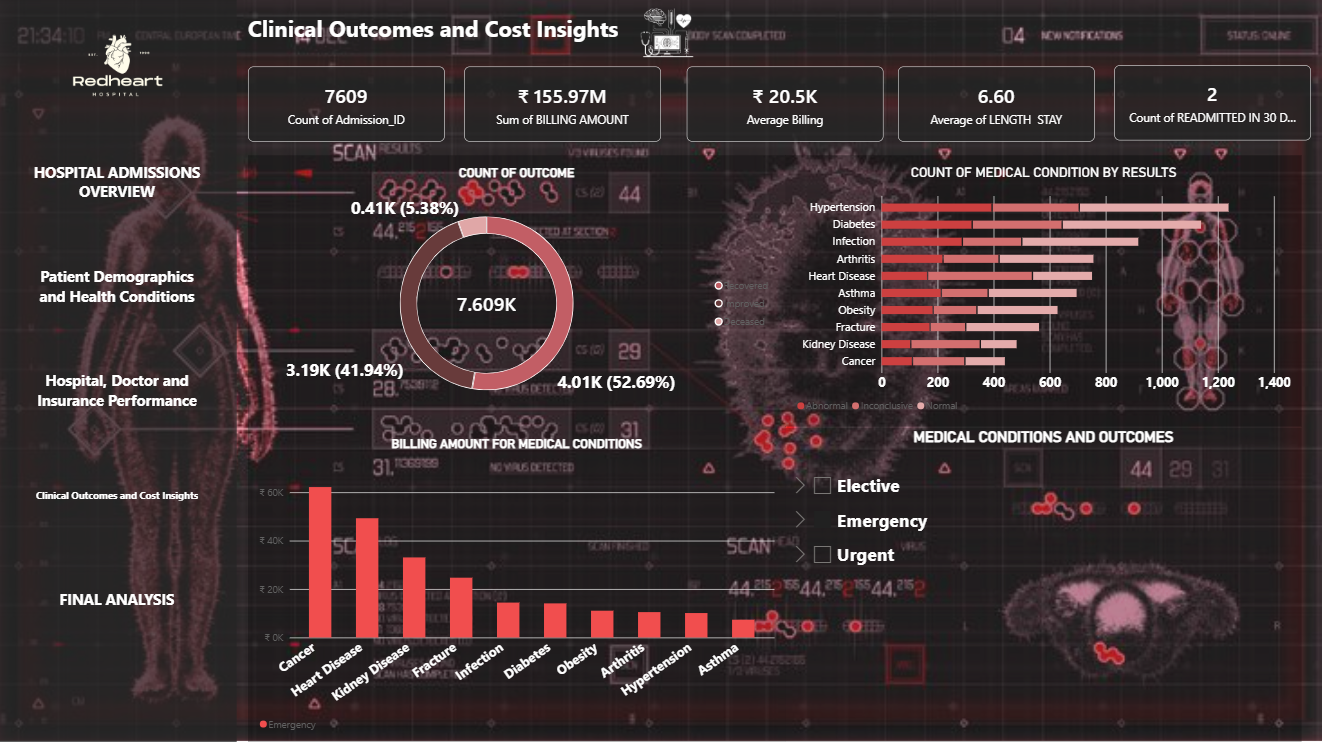

The dashboard page shown, as its layout file describes it:
{"tool":"powerbi","page":{"name":"Clinical Outcomes and Cost Insights","canvas":[1920,1080],"ordinal":3},"visuals":[{"type":"card","fields":{"Values":["Sum(hospital_admissions_patient_analytics.Billing_Amount)"]},"box":[675.6,97.8,284.8,108.7],"z":0,"group":"g1"},{"type":"card","fields":{"Values":["Count(hospital_admissions_patient_analytics.Admission_ID)"]},"box":[362.2,97.8,284.8,108.7],"z":1000,"group":"g1"},{"type":"card","fields":{"Values":["Count(hospital_admissions_patient_analytics.Readmitted_30_Days)"]},"box":[1615.6,95.6,284.8,108.7],"z":2000,"group":"g1"},{"type":"card","fields":{"Values":["Avg(hospital_admissions_patient_analytics.Length_of_Stay)"]},"box":[1302.2,97.8,284.8,108.7],"z":3000,"group":"g1"},{"type":"card","fields":{"Values":["hospital_admissions_patient_analytics.Average Billing"]},"box":[997.8,97.8,284.8,108.7],"z":4000,"group":"g1"},{"type":"shape","box":[0,0,345.7,1080.4],"z":5000,"group":"g1"},{"type":"textbox","box":[362.2,20,1082.2,64.4],"z":6000,"group":"g1"},{"type":"image","box":[0,0,346.7,193.3],"z":7000,"group":"g1"},{"type":"image","box":[675,0,584.1,97.7],"z":8000,"group":"g1"},{"type":"pageNavigator","box":[36.4,193.2,272.7,747.7],"z":9000,"group":"g1"},{"type":"donutChart","title":"COUNT OF OUTCOME ","fields":{"Category":["hospital_admissions_patient_analytics.Outcome"],"Y":["CountNonNull(hospital_admissions_patient_analytics.Outcome)"]},"box":[362.3,226.4,778,393.1],"z":10000,"group":"g1"},{"type":"barChart","title":"COUNT OF MEDICAL CONDITION BY RESULTS","fields":{"Series":["hospital_admissions_patient_analytics.Test_Results"],"Y":["CountNonNull(hospital_admissions_patient_analytics.Medical_Condition)"],"Category":["hospital_admissions_patient_analytics.Medical_Condition"]},"box":[1140.3,226.4,747.2,393.1],"z":11000,"group":"g1"},{"type":"clusteredColumnChart","title":"BILLING AMOUNT FOR MEDICAL CONDITIONS ","fields":{"Category":["hospital_admissions_patient_analytics.Medical_Condition"],"Series":["hospital_admissions_patient_analytics.Admission_Type"],"Y":["Avg(hospital_admissions_patient_analytics.BILLING AMOUNT)"]},"box":[362.3,619.6,778,461.1],"z":12000,"group":"g1"},{"type":"slicer","title":"MEDICAL CONDITIONS AND OUTCOMES","fields":{"Values":["hospital_admissions_patient_analytics.Admission_Type","hospital_admissions_patient_analytics.Outcome"]},"box":[1140,620,747,460],"z":13000,"group":"g1"},{"type":"group","id":"g1","title":"Group 1","box":[0,0,1900.3,1080.6],"z":13001}]}

Visuals, with their boxes in screenshot pixels (x1, y1, x2, y2), scaled from the page's 1920x1080 canvas onto the 1322x742 screenshot:
card - Sum(hospital_admissions_patient_analytics.Billing_Amount): 465,67,661,142
card - Count(hospital_admissions_patient_analytics.Admission_ID): 249,67,445,142
card - Count(hospital_admissions_patient_analytics.Readmitted_30_Days): 1112,66,1309,140
card - Avg(hospital_admissions_patient_analytics.Length_of_Stay): 897,67,1093,142
card - hospital_admissions_patient_analytics.Average Billing: 687,67,883,142
shape: 0,0,238,741
textbox: 249,14,995,58
image: 0,0,239,133
image: 465,0,867,67
pageNavigator: 25,133,213,646
"COUNT OF OUTCOME " donutChart: 249,156,785,426
"COUNT OF MEDICAL CONDITION BY RESULTS" barChart: 785,156,1300,426
"BILLING AMOUNT FOR MEDICAL CONDITIONS " clusteredColumnChart: 249,426,785,741
"MEDICAL CONDITIONS AND OUTCOMES" slicer: 785,426,1299,741
"Group 1" group: 0,0,1308,741
